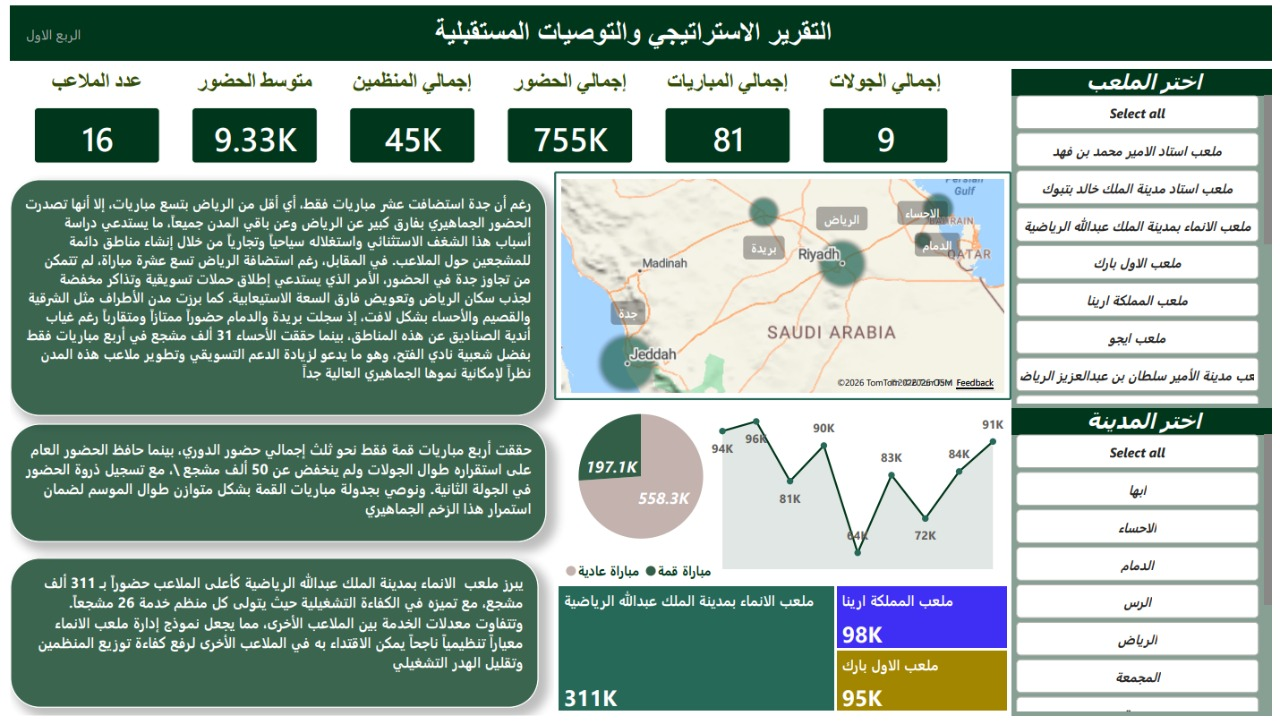

The page's visual inventory and layout, read from the dashboard file:
{"tool":"powerbi","page":{"name":"المرئيات والتوصيات","canvas":[1280,720],"ordinal":2},"visuals":[{"type":"textbox","box":[0,176,544,240],"z":0},{"type":"textbox","box":[0,560,536,152],"z":1000},{"type":"textbox","box":[0,424,544,120],"z":2000},{"type":"cardVisual","title":"إجمالي الحضور","fields":{"Data":["Sum(League_Data.Attendance)"]},"box":[488,64,160,112],"z":3000},{"type":"cardVisual","title":"إجمالي الجولات","fields":{"Data":["Count(League_Data.Round)"]},"box":[808,64,160,112],"z":4000},{"type":"cardVisual","title":"متوسط الحضور","fields":{"Data":["Avg(League_Data.Attendance)"]},"box":[168,64,160,112],"z":5000},{"type":"cardVisual","title":"عدد الملاعب","fields":{"Data":["Count(League_Data.Stadium)"]},"box":[8,64,160,112],"z":6000},{"type":"cardVisual","title":"إجمالي المنظمين","fields":{"Data":["Sum(League_Data.Organizers_Count)"]},"box":[328,64,160,112],"z":7000},{"type":"cardVisual","title":"إجمالي المباريات","fields":{"Data":["CountNonNull(League_Data.Match_ID)"]},"box":[648,64,160,112],"z":8000},{"type":"shape","box":[0,0,1280,56],"z":9000},{"type":"shape","box":[8,0,72,56],"z":10000},{"type":"azureMap","fields":{"Category":["League_Data.City"],"Size":["Sum(League_Data.Attendance)"]},"box":[552,168,464,232],"z":11000},{"type":"lineChart","title":"تطور المنحنى الجماهيري عبر الجولات","fields":{"Category":["League_Data.Round"],"Y":["Sum(League_Data.Attendance)"]},"box":[704,392,312,184],"z":12000},{"type":"treemap","fields":{"Group":["League_Data.Stadium"],"Values":["Sum(League_Data.Attendance)"]},"box":[552,584,464,136],"z":13000},{"type":"pieChart","title":"الحضور الجماهيري لدى مباريات القمة والمباريات العادية","fields":{"Y":["Sum(League_Data.Attendance)"],"Category":["League_Data.Match_Type"]},"box":[392,392,496,200],"z":14000},{"type":"advancedSlicerVisual","title":"اختر الملعب","fields":{"Values":["League_Data.Stadium"]},"box":[1016,64,264,344],"z":15000},{"type":"advancedSlicerVisual","title":"اختر المدينة","fields":{"Values":["League_Data.City"]},"box":[1016,408,264,312],"z":16000}]}

Visuals, with their boxes in screenshot pixels (x1, y1, x2, y2), scaled from the page's 1280x720 canvas onto the 1280x724 screenshot:
textbox: box(0, 177, 544, 418)
textbox: box(0, 563, 536, 716)
textbox: box(0, 426, 544, 547)
"إجمالي الحضور" cardVisual: box(488, 64, 648, 177)
"إجمالي الجولات" cardVisual: box(808, 64, 968, 177)
"متوسط الحضور" cardVisual: box(168, 64, 328, 177)
"عدد الملاعب" cardVisual: box(8, 64, 168, 177)
"إجمالي المنظمين" cardVisual: box(328, 64, 488, 177)
"إجمالي المباريات" cardVisual: box(648, 64, 808, 177)
shape: box(0, 0, 1279, 56)
shape: box(8, 0, 80, 56)
azureMap - League_Data.City x Sum(League_Data.Attendance): box(552, 169, 1016, 402)
"تطور المنحنى الجماهيري عبر الجولات" lineChart: box(704, 394, 1016, 579)
treemap - League_Data.Stadium x Sum(League_Data.Attendance): box(552, 587, 1016, 723)
"الحضور الجماهيري لدى مباريات القمة والمباريات العادية" pieChart: box(392, 394, 888, 595)
"اختر الملعب" advancedSlicerVisual: box(1016, 64, 1279, 410)
"اختر المدينة" advancedSlicerVisual: box(1016, 410, 1279, 723)
